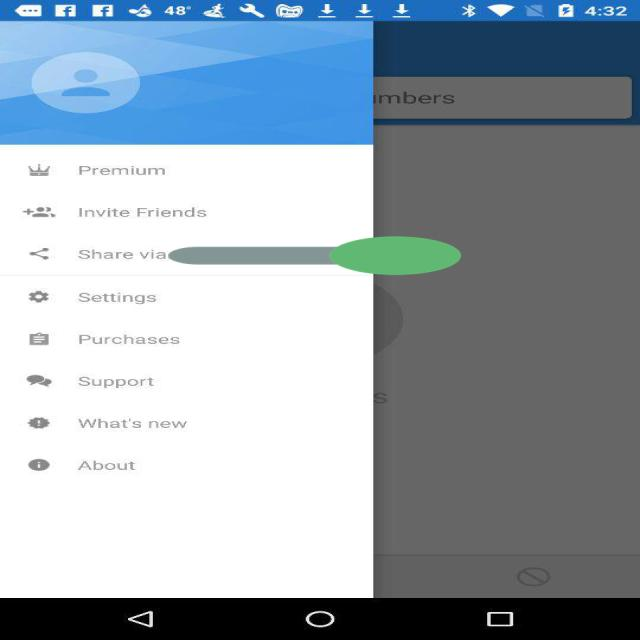social proof: (168, 212, 461, 298)
